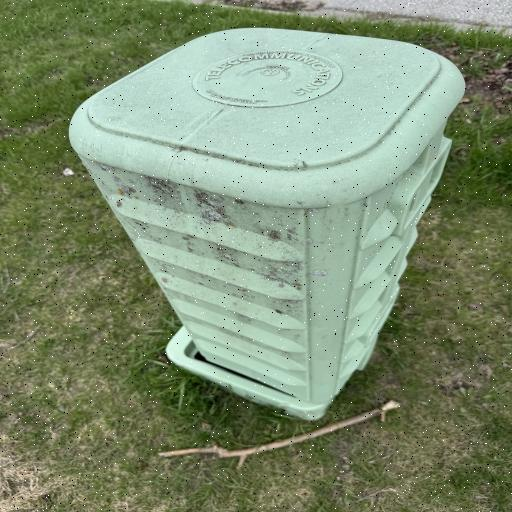Electrical Box: (66, 26, 468, 420)
